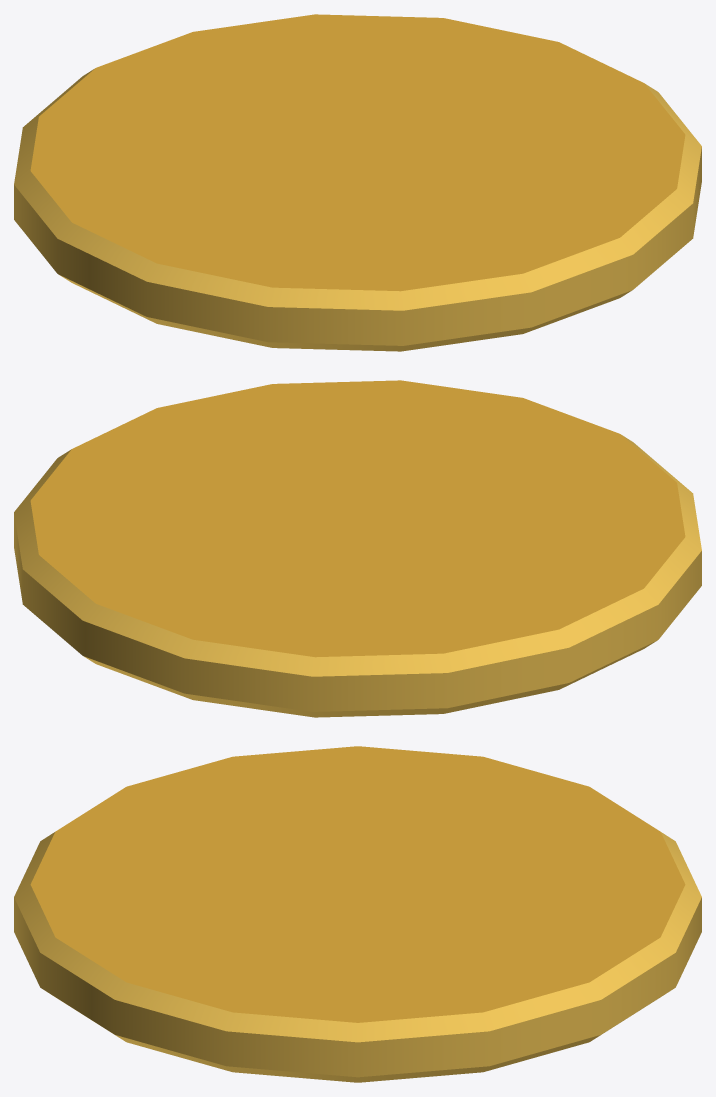
Rendered from Medal_Low.obj.
3 renders of one model, top to bottom at view 1: azimuth 30°, elevation 25°; view 2: azimuth 150°, elevation 25°; view 3: azimuth 270°, elevation 25°, orthographic.
Visible parts, largest first — view 1: Medal_Low; view 2: Medal_Low; view 3: Medal_Low.
Part boxes in pixels (x1=…): Medal_Low: x1=14, y1=14, x2=701, y2=351; Medal_Low: x1=14, y1=380, x2=701, y2=717; Medal_Low: x1=14, y1=746, x2=701, y2=1082.
Bounding box in the file's own units: 0.025 × 0.0024 × 0.025.
